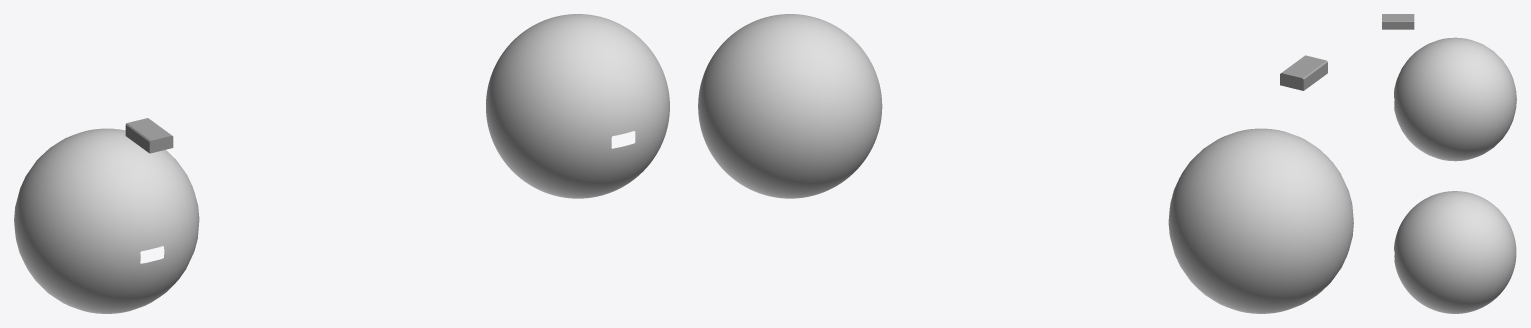
The model's file is sphere-with-door-hole.glb.
The picture shows the model from 3 angles, left to right: view 1: azimuth 30°, elevation 25°; view 2: azimuth 150°, elevation 25°; view 3: azimuth 270°, elevation 25°; orthographic projection. The views are drawn at different scales.
Parts seen in each view (by area): view 1: Sphere, Sphere.001, Handle.001; view 2: Sphere.001, Sphere, Handle.001; view 3: Sphere.001, Sphere, Handle.001.
Part boxes in pixels (box(x1,y1,x2,y2)): Sphere: box(486, 14, 669, 198); Sphere.001: box(14, 128, 199, 313); Handle.001: box(125, 118, 173, 153); Sphere.001: box(1168, 128, 1353, 313); Sphere: box(698, 14, 882, 198); Handle.001: box(1280, 55, 1327, 90); Sphere.001: box(1394, 37, 1516, 161); Sphere: box(1394, 191, 1516, 313); Handle.001: box(1382, 14, 1414, 29).
Size of the model in its own units: 134 by 41.91 by 37.1.
Materials: 1 (1 with a texture image).
